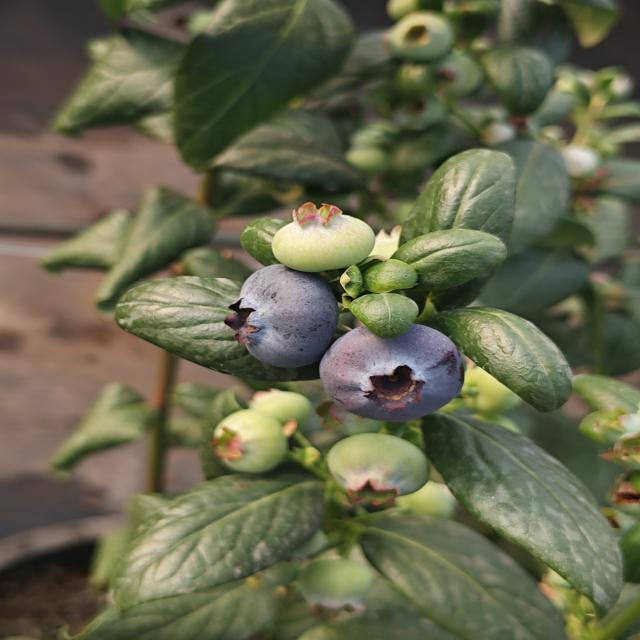ripe: (317, 316, 474, 420), (223, 257, 352, 376)
